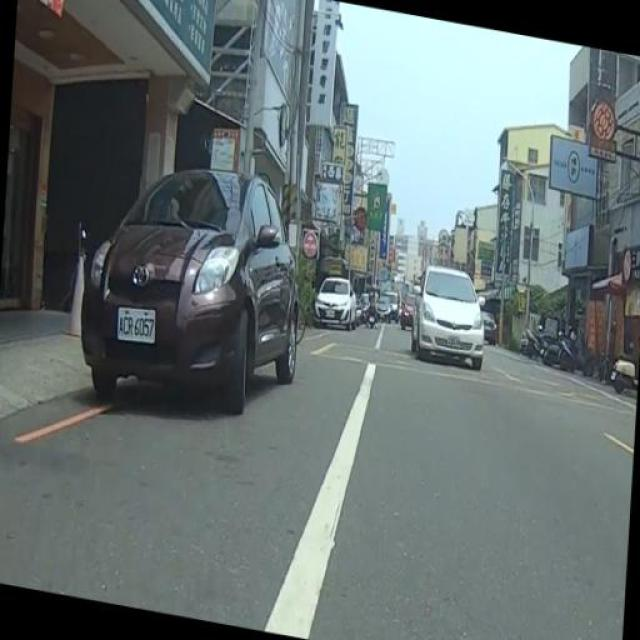illegalparking: (67, 153, 331, 444)
